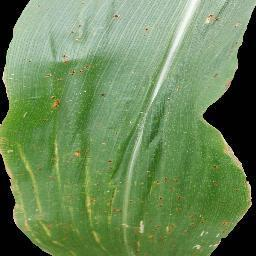Corn_Common_Rust: (0, 64, 23, 240), (222, 138, 254, 228), (162, 227, 233, 256), (79, 177, 97, 241), (105, 176, 123, 235), (24, 210, 54, 244), (60, 50, 94, 76), (26, 156, 40, 206), (47, 139, 58, 198), (154, 191, 187, 207), (43, 95, 67, 115), (149, 173, 182, 186), (132, 214, 150, 235), (64, 20, 85, 37), (202, 10, 223, 26), (64, 144, 83, 158), (100, 154, 116, 170), (225, 75, 238, 92), (140, 22, 152, 37), (110, 4, 120, 21), (97, 89, 109, 102), (209, 72, 221, 83)
